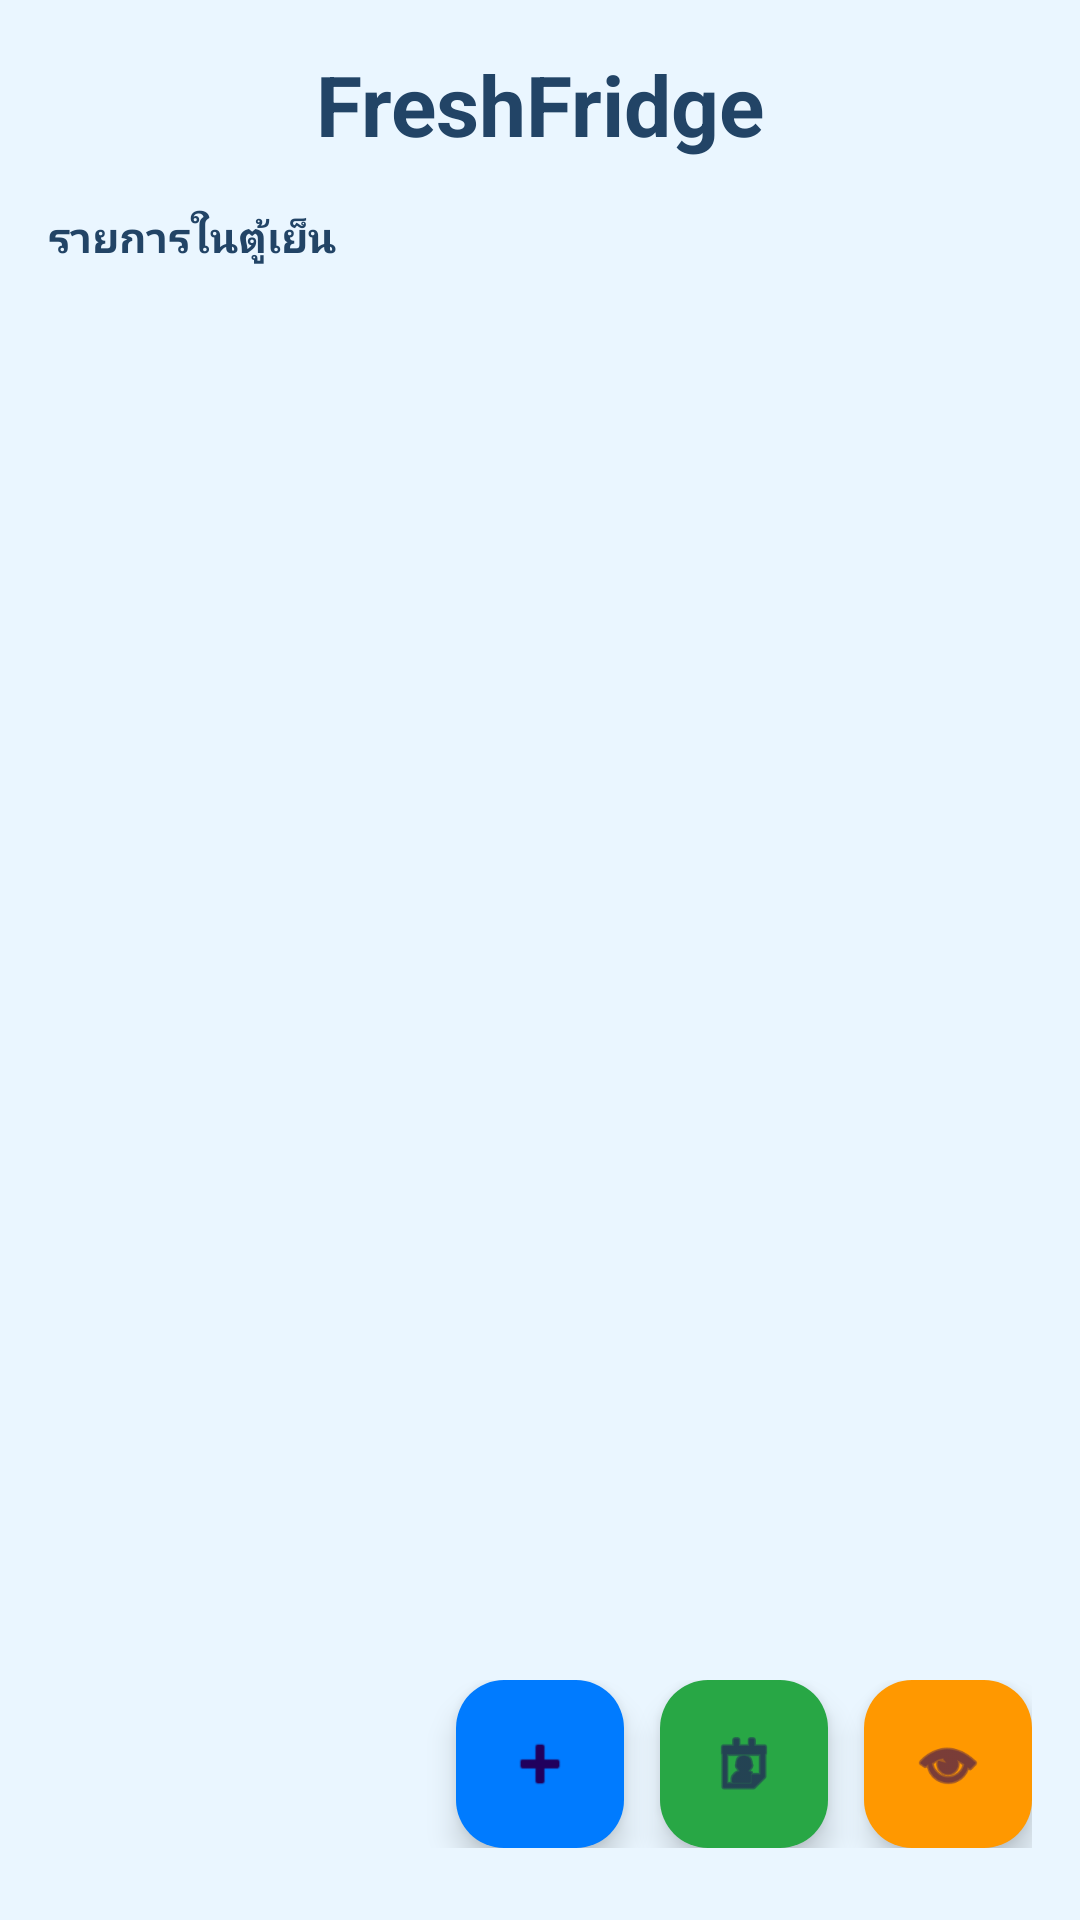

Screen size 1080*1920. Icon name, then its center in pixels as (x=x, y=y):
add: (x=540, y=1764)
calendar: (x=744, y=1764)
view: (x=948, y=1764)
